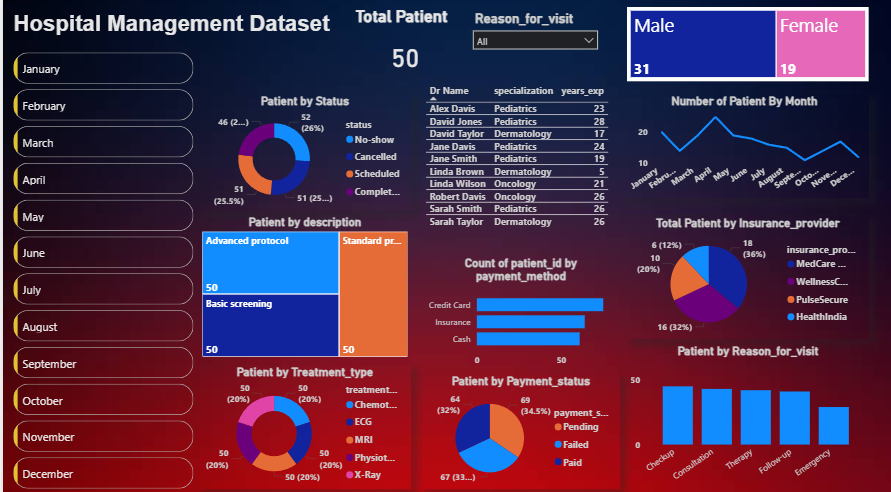

This screenshot's page, from the dashboard's own definition file:
{"tool":"powerbi","page":{"name":"Page 1","canvas":[1280,720],"ordinal":0},"visuals":[{"type":"textbox","box":[10.1,16.8,492.2,60.5],"z":0},{"type":"slicer","title":"Patient Name","fields":{"Values":["appointments.reason_for_visit"]},"box":[666.7,17.3,200.2,76.3],"z":1000},{"type":"cardVisual","title":"Total Patient","fields":{"Data":["Count(patients.patient_id)"]},"box":[502.6,17.3,152.6,93.6],"z":2000},{"type":"treemap","fields":{"Group":["patients.gender"],"Values":["CountNonNull(patients.patient_id)"]},"box":[898.6,17.3,348.5,106.6],"z":3000},{"type":"pieChart","title":"Total Patient by Insurance_provider","fields":{"Category":["patients.insurance_provider"],"Y":["CountNonNull(patients.patient_id)"]},"box":[898.6,318.2,348.5,177.1],"z":4000},{"type":"lineChart","title":"Number of Patient By Month","fields":{"Y":["CountNonNull(appointments.patient_id)"],"Category":["appointments.appointment_date.Variation.Date Hierarchy.Month","appointments.appointment_date.Variation.Date Hierarchy.Day"]},"box":[888.5,142.6,358.6,149.8],"z":5000},{"type":"advancedSlicerVisual","fields":{"Values":["appointments.appointment_date.Variation.Date Hierarchy.Month"]},"box":[10.1,77.8,269.3,642.2],"z":6000},{"type":"clusteredColumnChart","title":"Patient by Reason_for_visit","fields":{"Category":["appointments.reason_for_visit"],"Y":["CountNonNull(appointments.patient_id)"]},"box":[898.6,502.6,348.5,208.8],"z":7000},{"type":"donutChart","title":"Patient by Status","fields":{"Category":["appointments.status"],"Y":["CountNonNull(appointments.patient_id)"]},"box":[282.2,142.6,305.3,168.5],"z":8000},{"type":"barChart","fields":{"Category":["billing.payment_method"],"Y":["CountNonNull(billing.patient_id)"]},"box":[603.4,375.8,285.1,168.5],"z":9000},{"type":"pieChart","title":"Patient by Payment_status","fields":{"Category":["billing.payment_status"],"Y":["CountNonNull(billing.patient_id)"]},"box":[603.4,545.8,285.1,165.6],"z":10000},{"type":"tableEx","fields":{"Values":["doctors.Dr Name","doctors.specialization","doctors.years_experience"]},"box":[603.4,123.8,273.6,249.1],"z":11000},{"type":"donutChart","title":"Patient by Treatment_type","fields":{"Category":["treatments.treatment_type"],"Y":["CountNonNull(patients.patient_id)"]},"box":[282.2,532.8,305.3,178.6],"z":12000},{"type":"treemap","title":"Patient by description","fields":{"Group":["treatments.description"],"Values":["CountNonNull(patients.patient_id)"]},"box":[282.2,316.8,305.3,208.8],"z":13000}]}

Visuals, with their boxes in screenshot pixels (x1, y1, x2, y2), scaled from the page's 1280x720 canvas onto the 891x492 screenshot:
textbox: detection(7, 11, 350, 53)
"Patient Name" slicer: detection(464, 12, 603, 64)
"Total Patient" cardVisual: detection(350, 12, 456, 76)
treemap - patients.gender x CountNonNull(patients.patient_id): detection(626, 12, 868, 85)
"Total Patient by Insurance_provider" pieChart: detection(626, 217, 868, 338)
"Number of Patient By Month" lineChart: detection(618, 97, 868, 200)
advancedSlicerVisual - appointments.appointment_date.Variation.Date Hierarchy.Month: detection(7, 53, 194, 491)
"Patient by Reason_for_visit" clusteredColumnChart: detection(626, 343, 868, 486)
"Patient by Status" donutChart: detection(196, 97, 409, 213)
barChart - billing.payment_method x CountNonNull(billing.patient_id): detection(420, 257, 618, 372)
"Patient by Payment_status" pieChart: detection(420, 373, 618, 486)
tableEx - doctors.Dr Name x doctors.specialization: detection(420, 85, 610, 255)
"Patient by Treatment_type" donutChart: detection(196, 364, 409, 486)
"Patient by description" treemap: detection(196, 216, 409, 359)
